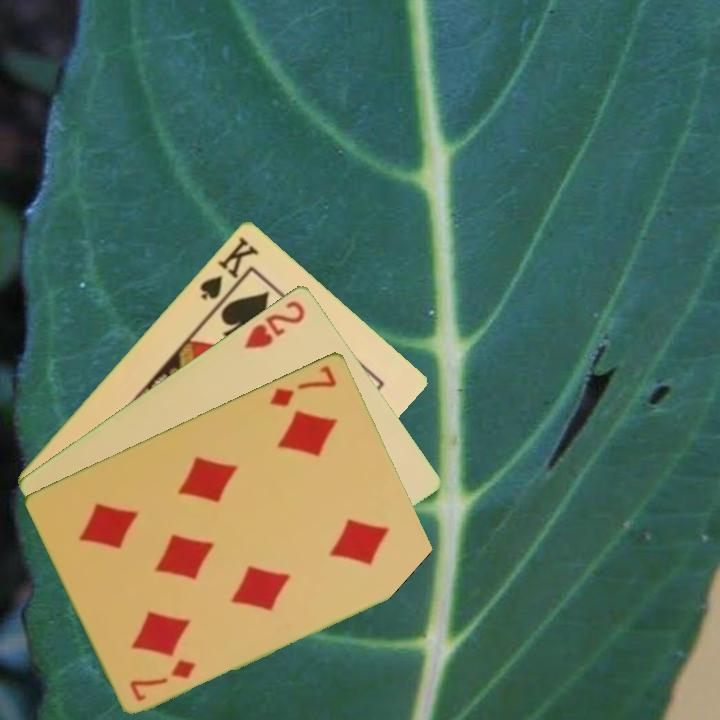2h: (240, 296, 308, 352)
7d: (126, 655, 199, 704), (266, 361, 340, 409)
Ks: (196, 232, 262, 303)
